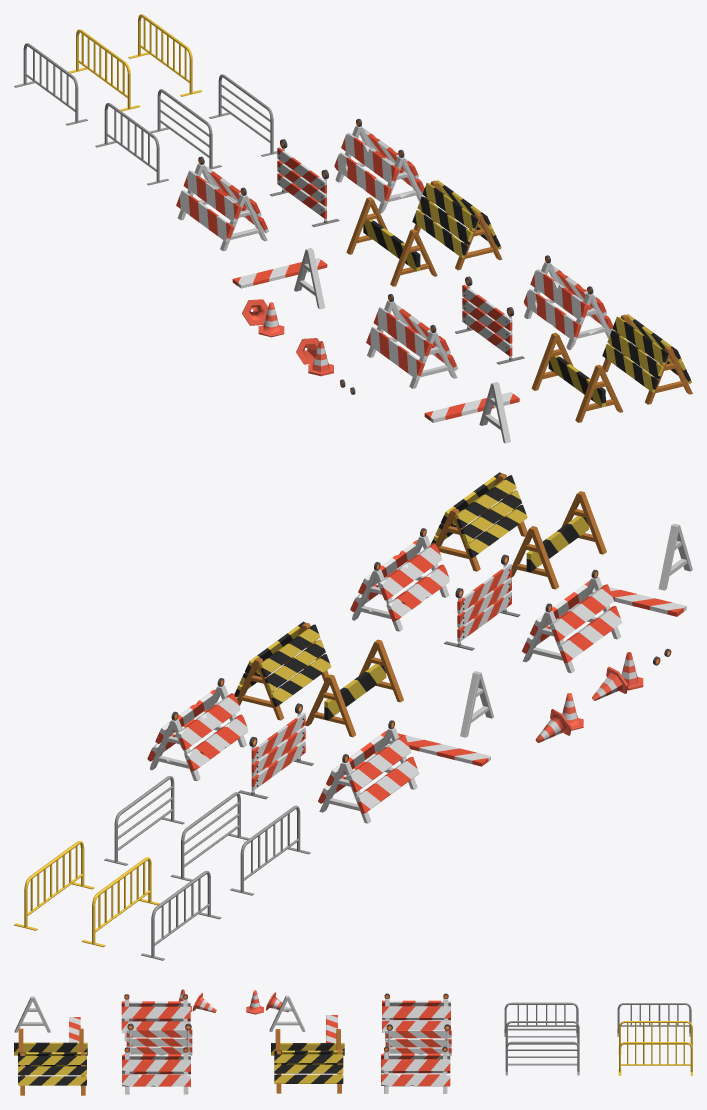
File: simple_low_poly_street_work_stuff.glb
The picture shows the model from 3 angles, top to bottom: view 1: azimuth 30°, elevation 25°; view 2: azimuth 150°, elevation 25°; view 3: azimuth 270°, elevation 25°; orthographic projection. The views are drawn at different scales.
Parts seen in each view (by area): view 1: valla_soporte.001, valla_nueva.001, valla_nueva, valla2_vieja, valla2_vieja.001, valla_soporte.003, valla_soporte.004, valla_soporte.005, valla_light_smooth.001, valla_light_smooth.002, valla, valla.001 (+8 smaller); view 2: valla2_vieja, valla_nueva, valla_nueva.001, valla_soporte.001, valla2_vieja.001, valla_soporte.003, valla_soporte.004, valla_soporte.005, valla_light_smooth.001, valla_light_smooth.002, valla.001, valla (+8 smaller); view 3: valla2_vieja, valla_soporte.003, valla_soporte.001, valla2_vieja.001, valla_nueva.001, valla_nueva, valla_light_smooth.001, valla_light_smooth.002, valla_soporte.004, valla.005, valla.001, valla_soporte.005 (+10 smaller).
Part boxes in pixels (left/top/right/bottom): valla_soporte.001: left=602, top=314, right=692, bottom=404; valla_nueva.001: left=176, top=156, right=268, bottom=251; valla_nueva: left=366, top=294, right=458, bottom=388; valla2_vieja: left=334, top=118, right=424, bottom=213; valla2_vieja.001: left=523, top=255, right=613, bottom=350; valla_soporte.003: left=412, top=180, right=502, bottom=270; valla_soporte.004: left=531, top=332, right=623, bottom=422; valla_soporte.005: left=346, top=197, right=437, bottom=286; valla_light_smooth.001: left=455, top=276, right=524, bottom=364; valla_light_smooth.002: left=269, top=139, right=339, bottom=226; valla: left=68, top=29, right=140, bottom=111; valla.001: left=128, top=14, right=202, bottom=96; valla2_vieja: left=147, top=678, right=248, bottom=781; valla_nueva: left=521, top=569, right=622, bottom=673; valla_nueva.001: left=318, top=720, right=419, bottom=823; valla_soporte.001: left=431, top=472, right=527, bottom=571; valla2_vieja.001: left=350, top=528, right=449, bottom=631; valla_soporte.003: left=234, top=621, right=331, bottom=720; valla_soporte.004: left=510, top=491, right=606, bottom=589; valla_soporte.005: left=305, top=639, right=403, bottom=737; valla_light_smooth.001: left=444, top=554, right=520, bottom=650; valla_light_smooth.002: left=238, top=703, right=313, bottom=799; valla.001: left=14, top=841, right=94, bottom=930; valla: left=81, top=857, right=160, bottom=947; valla2_vieja: left=381, top=1046, right=450, bottom=1093; valla_soporte.003: left=274, top=1050, right=343, bottom=1093; valla_soporte.001: left=18, top=1052, right=86, bottom=1095; valla2_vieja.001: left=122, top=1047, right=190, bottom=1094; valla_nueva.001: left=382, top=993, right=450, bottom=1040; valla_nueva: left=121, top=994, right=190, bottom=1041; valla_light_smooth.001: left=126, top=1023, right=192, bottom=1055; valla_light_smooth.002: left=385, top=1024, right=451, bottom=1055; valla_soporte.004: left=14, top=1028, right=87, bottom=1055; valla.005: left=505, top=1041, right=579, bottom=1075; valla.001: left=618, top=1042, right=692, bottom=1075; valla_soporte.005: left=271, top=1029, right=344, bottom=1055.
Bounding box in the file's own units: 6.67 × 1.36 × 21.15.
Materials: 1 (1 with a texture image).
